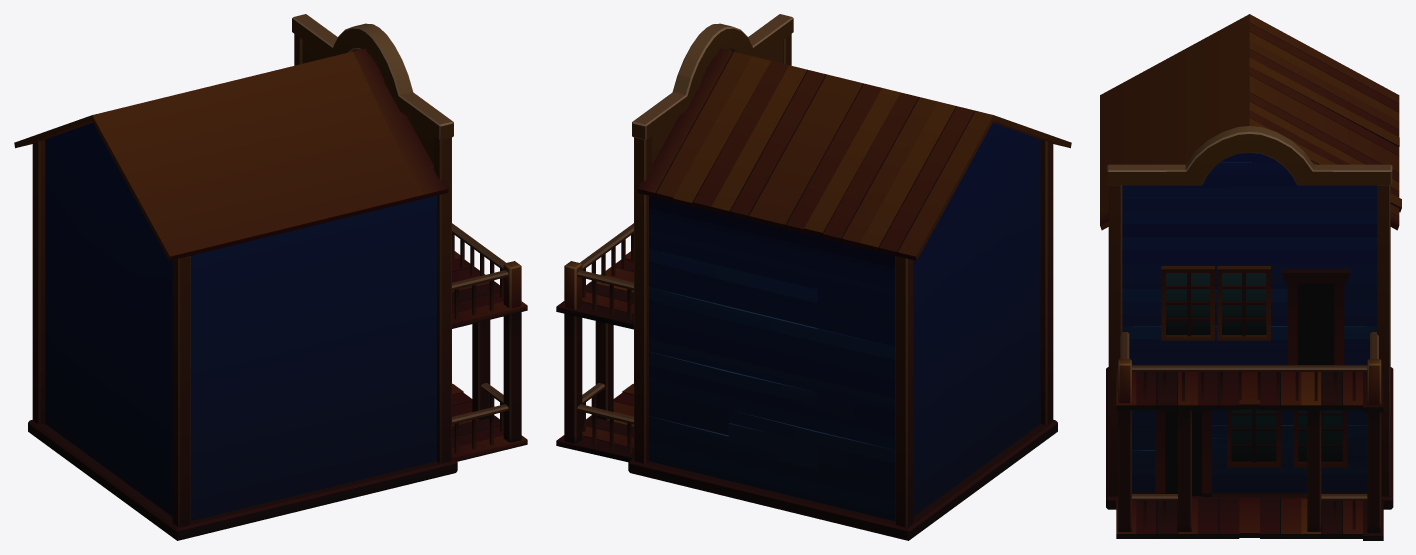
Rendered from building_3.fbx.
The picture shows the model from 3 angles, left to right: view 1: azimuth 30°, elevation 25°; view 2: azimuth 150°, elevation 25°; view 3: azimuth 270°, elevation 25°; orthographic projection. The views are drawn at different scales.
Visible parts, largest first — view 1: building_3; view 2: building_3; view 3: building_3.
Part boxes in pixels (bbox=[...]): building_3: bbox=[14, 14, 527, 540]; building_3: bbox=[556, 14, 1071, 540]; building_3: bbox=[1100, 14, 1401, 540].
Size of the model in its own units: 10.36 by 10.56 by 7.67.
